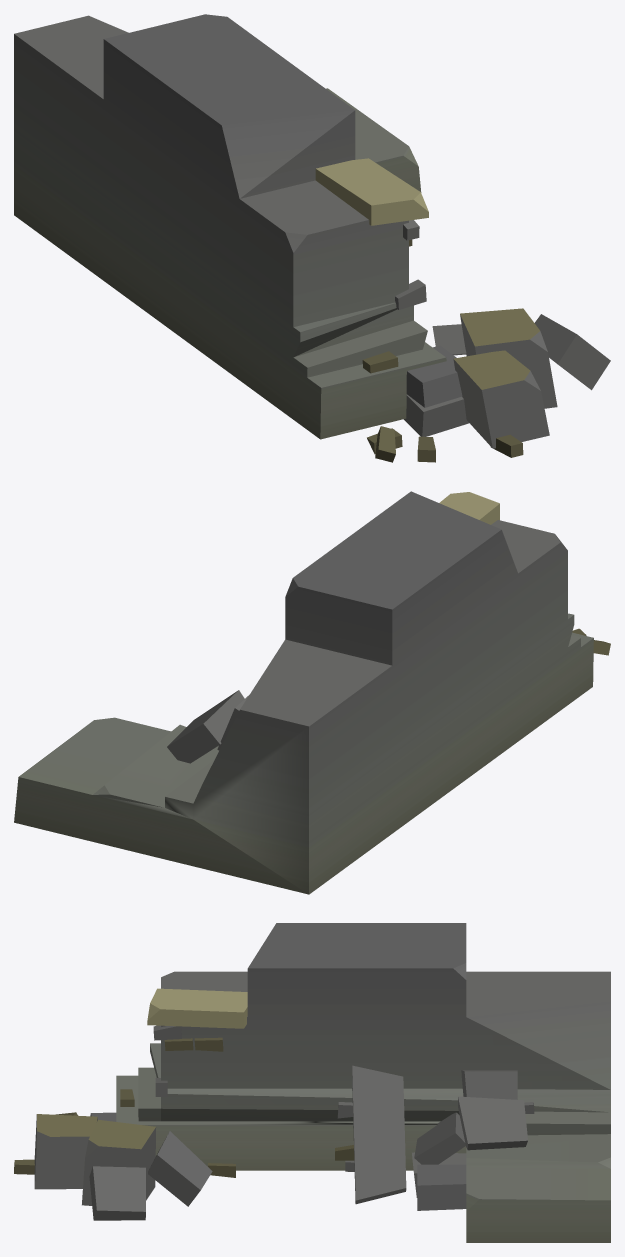
File: ea_arch_wall04_ruin_01b.001_lev1.glb
The picture shows the model from 3 angles, top to bottom: view 1: azimuth 30°, elevation 25°; view 2: azimuth 150°, elevation 25°; view 3: azimuth 270°, elevation 25°; orthographic projection. The views are drawn at different scales.
Visible parts, largest first — view 1: ea_arch_wall04_ruin_01b.001_lev1; view 2: ea_arch_wall04_ruin_01b.001_lev1; view 3: ea_arch_wall04_ruin_01b.001_lev1.
Part boxes in pixels (x1,y1,x2,y2): ea_arch_wall04_ruin_01b.001_lev1: (14, 14, 610, 462); ea_arch_wall04_ruin_01b.001_lev1: (14, 491, 610, 894); ea_arch_wall04_ruin_01b.001_lev1: (14, 923, 610, 1242).
Bounding box in the file's own units: 1.6 × 1.21 × 3.23.
Materials: 1 (1 with a texture image).
